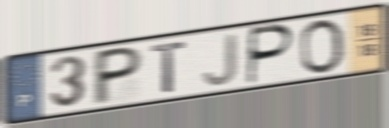3: (47, 54, 88, 110)
J: (200, 31, 239, 88)
O: (298, 17, 346, 77)
P: (90, 44, 146, 109), (244, 22, 297, 88)
T: (149, 39, 189, 95)
